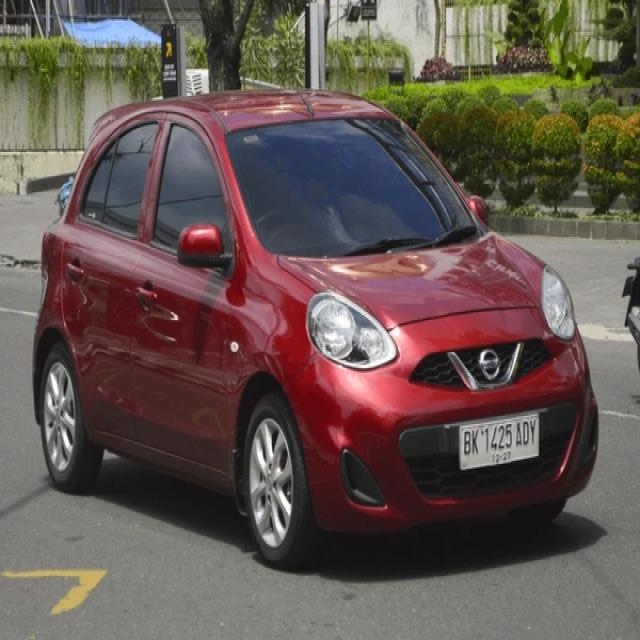nissan: (477, 350, 502, 382)
